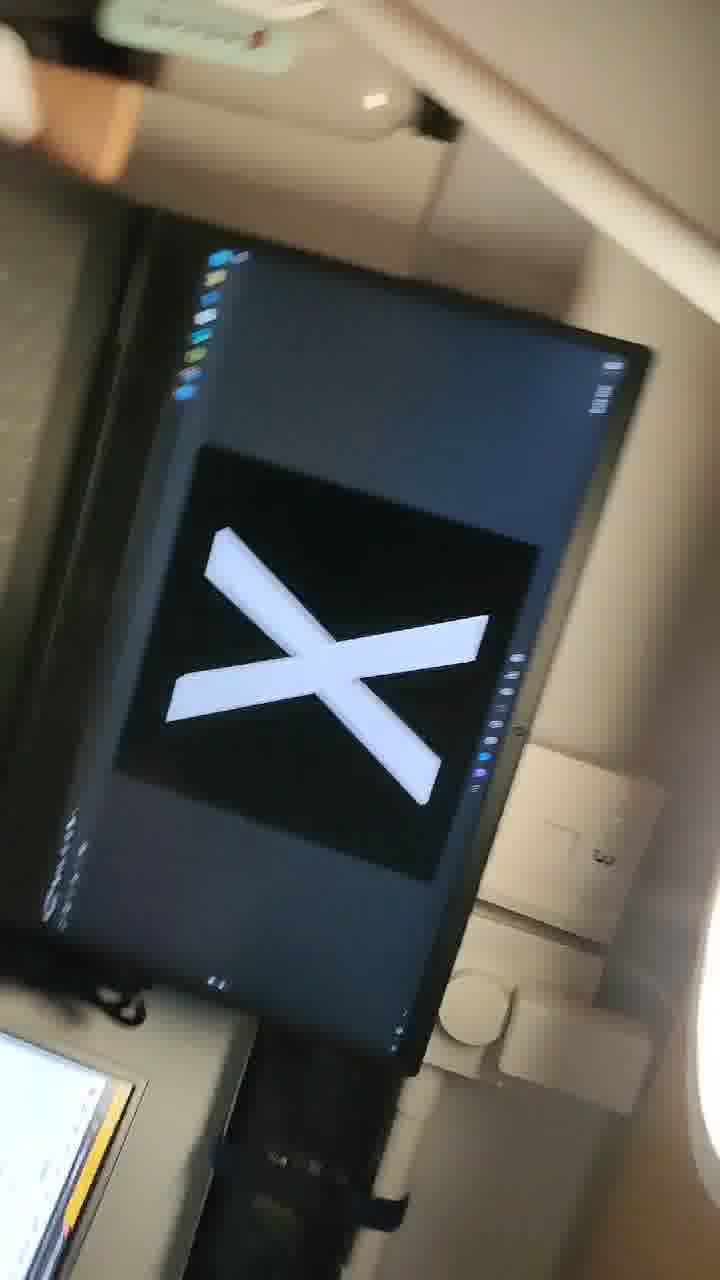X: (96, 497, 539, 797)
